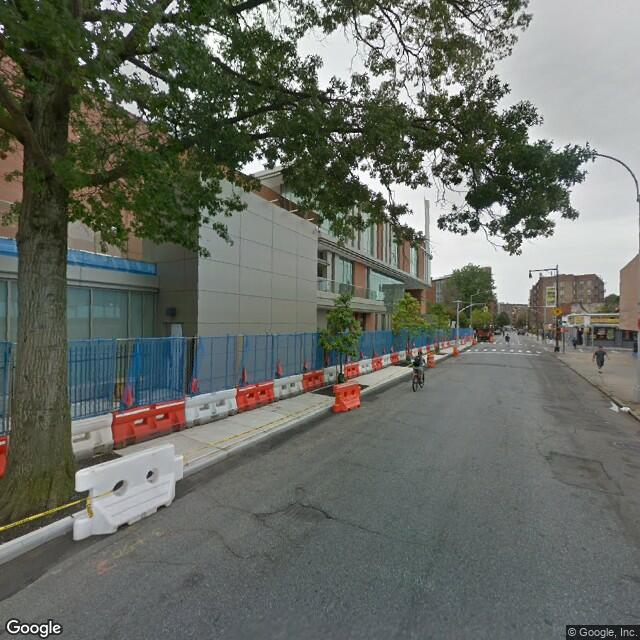litter: (621, 406, 631, 413)
